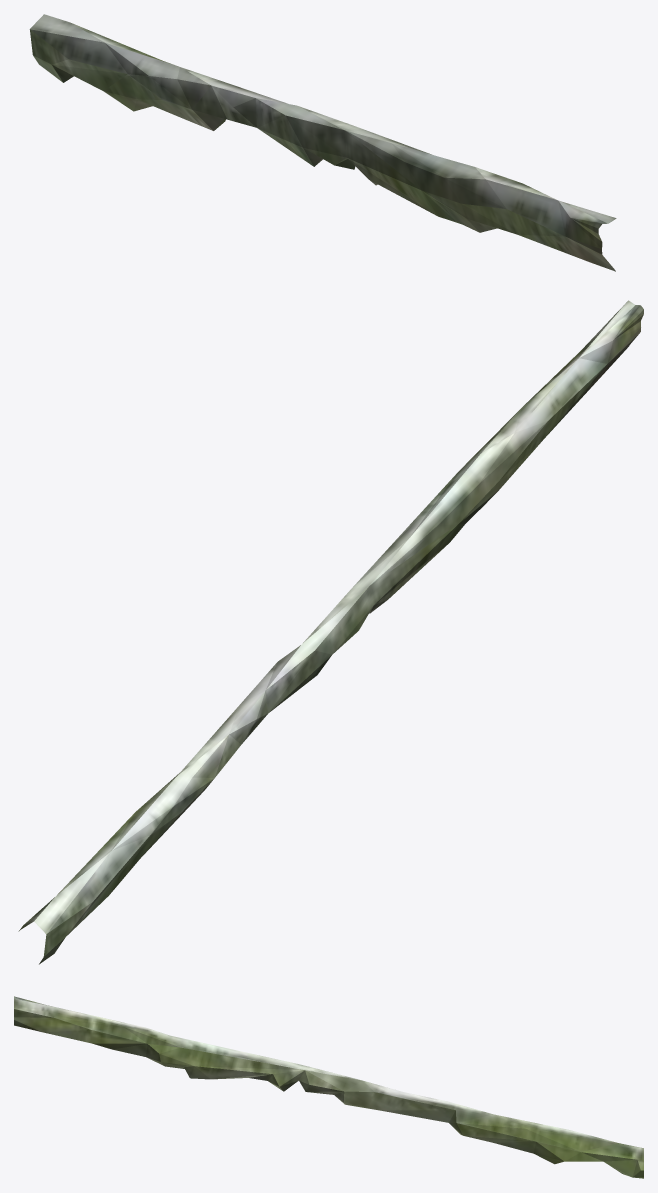
3 renders of one model, top to bottom at view 1: azimuth 30°, elevation 25°; view 2: azimuth 150°, elevation 25°; view 3: azimuth 270°, elevation 25°, orthographic. The views are drawn at different scales.
Bounding box in the file's own units: 0.5362 × 1.69 × 5.9.
Materials: 1 (1 with a texture image).
